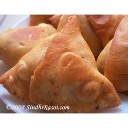samosa: (10, 18, 120, 109), (3, 21, 56, 65), (99, 14, 128, 88)
